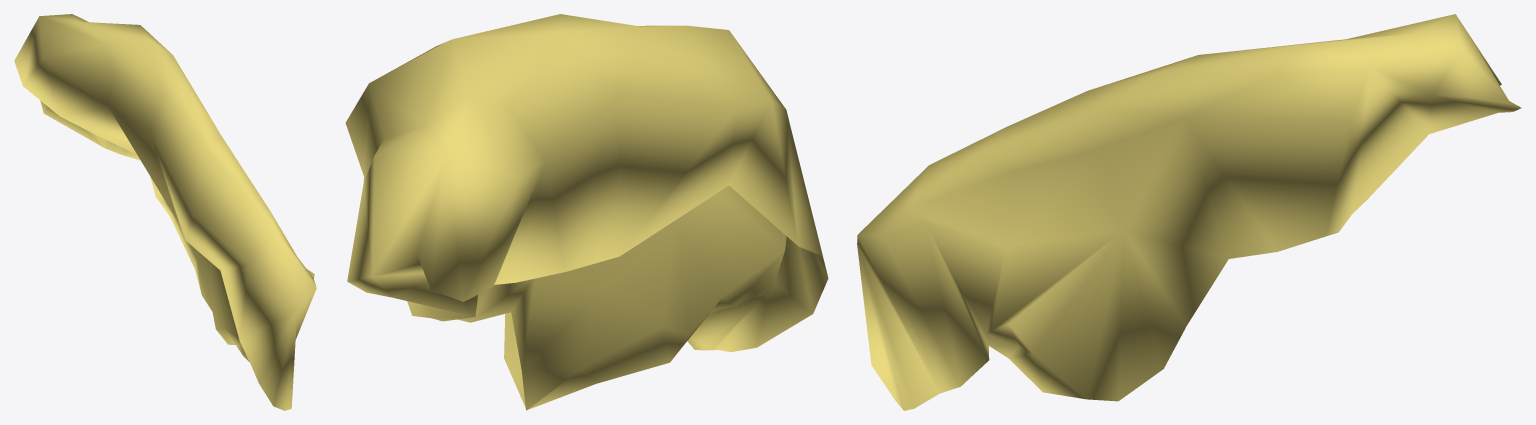
File: inferior-temporal-sulcus-r.glb
3 renders of one model, left to right at view 1: azimuth 30°, elevation 25°; view 2: azimuth 150°, elevation 25°; view 3: azimuth 270°, elevation 25°, orthographic. The views are drawn at different scales.
Visible parts, largest first — view 1: Inferior temporal sulcus.r; view 2: Inferior temporal sulcus.r; view 3: Inferior temporal sulcus.r.
Part boxes in pixels (x1,y1,x2,y2): Inferior temporal sulcus.r: [14, 14, 316, 410]; Inferior temporal sulcus.r: [345, 14, 828, 410]; Inferior temporal sulcus.r: [857, 14, 1521, 410].
Size of the model in its own units: 0.011 by 0.0201 by 0.033.
